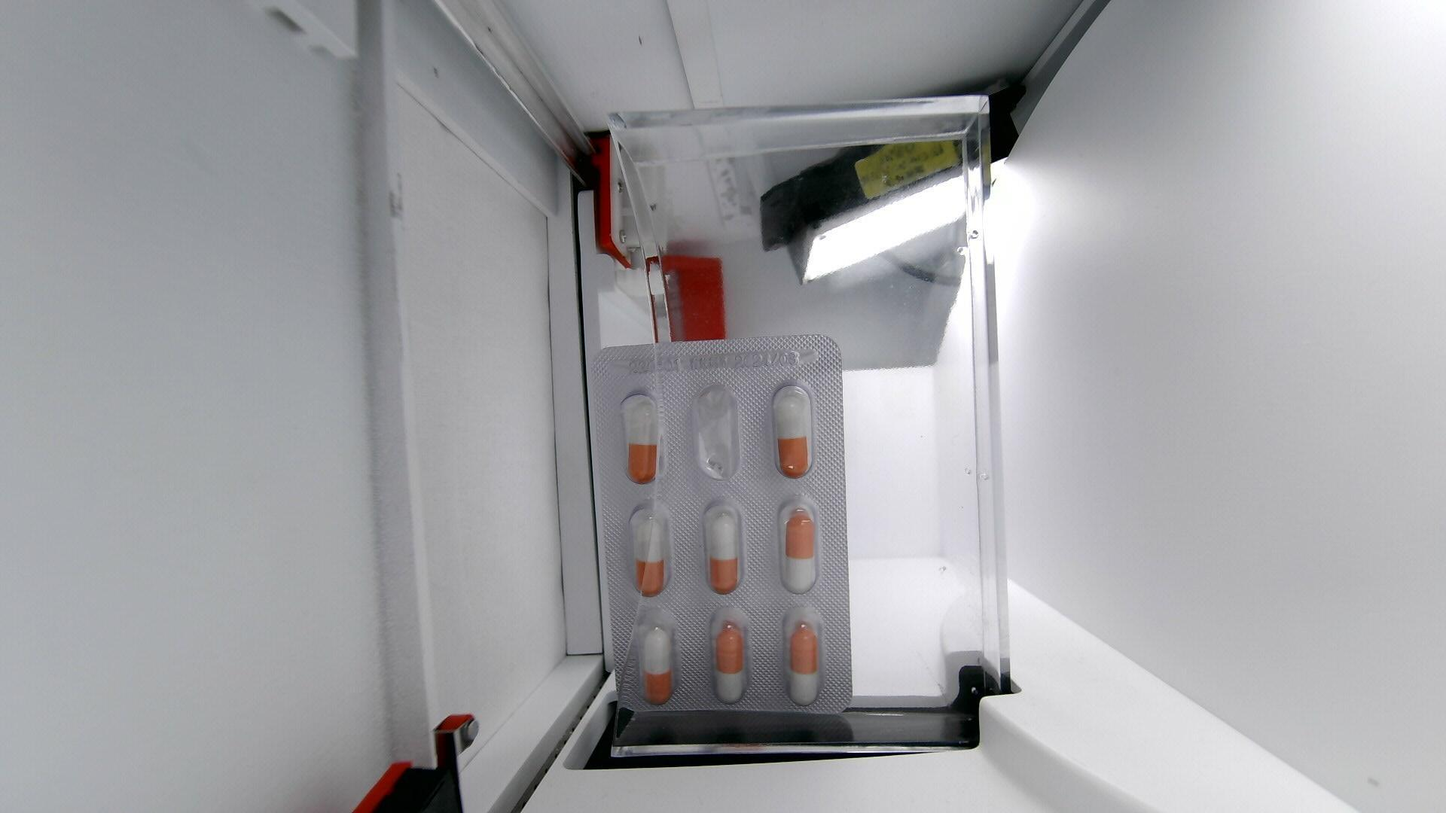Light Front: (591, 335, 853, 717)
No Pill Front: (691, 384, 740, 479)
Pill Front: (628, 607, 676, 705), (708, 607, 751, 703), (771, 382, 813, 478), (776, 500, 819, 593), (702, 500, 745, 593), (782, 607, 822, 705), (631, 505, 669, 596), (627, 395, 657, 483)
